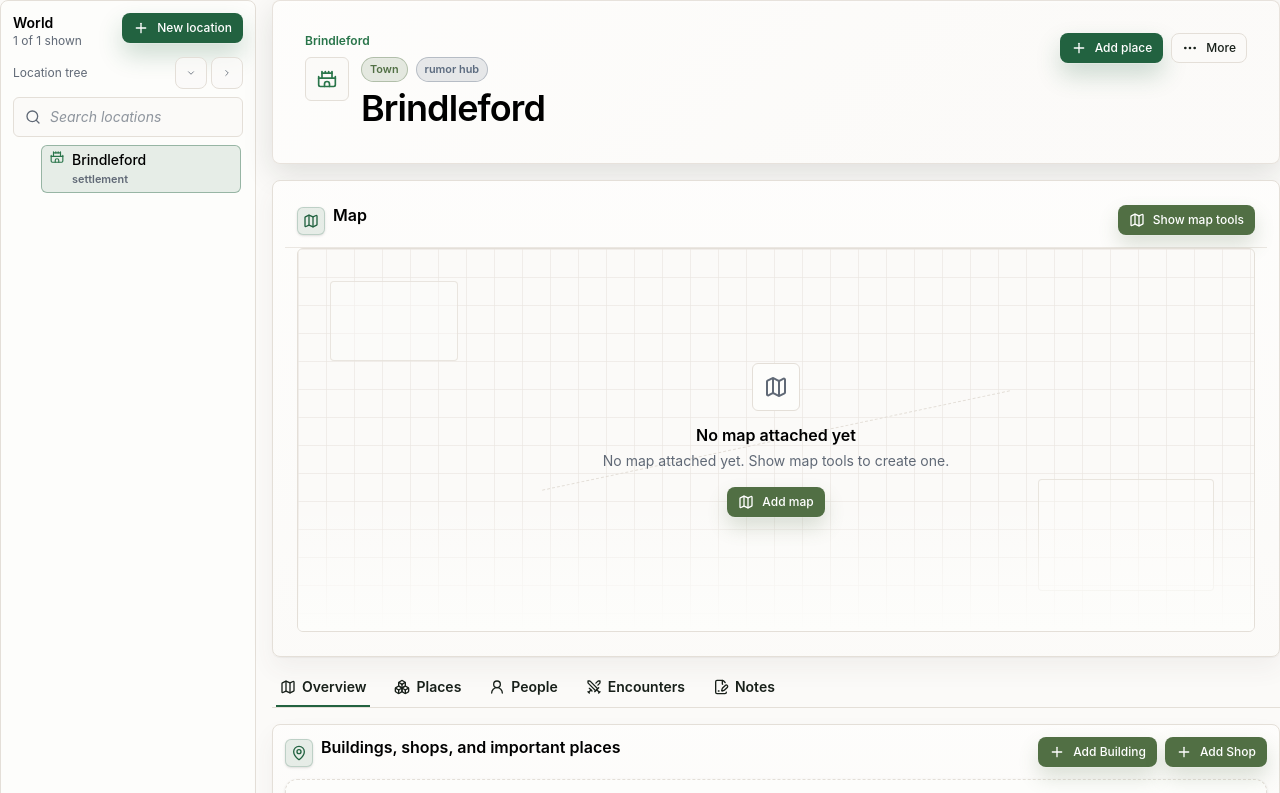
it: CampaignWorldSection notes and encounter actions › opens top-level location creation from a labelled workspace action
The width and height of the screenshot is (1280, 793).
What coordinates should you click on to do the following:
click the button "New location"
I would click on:
 (183, 28)
Its box is [122,13,243,43].
(page scrolled)
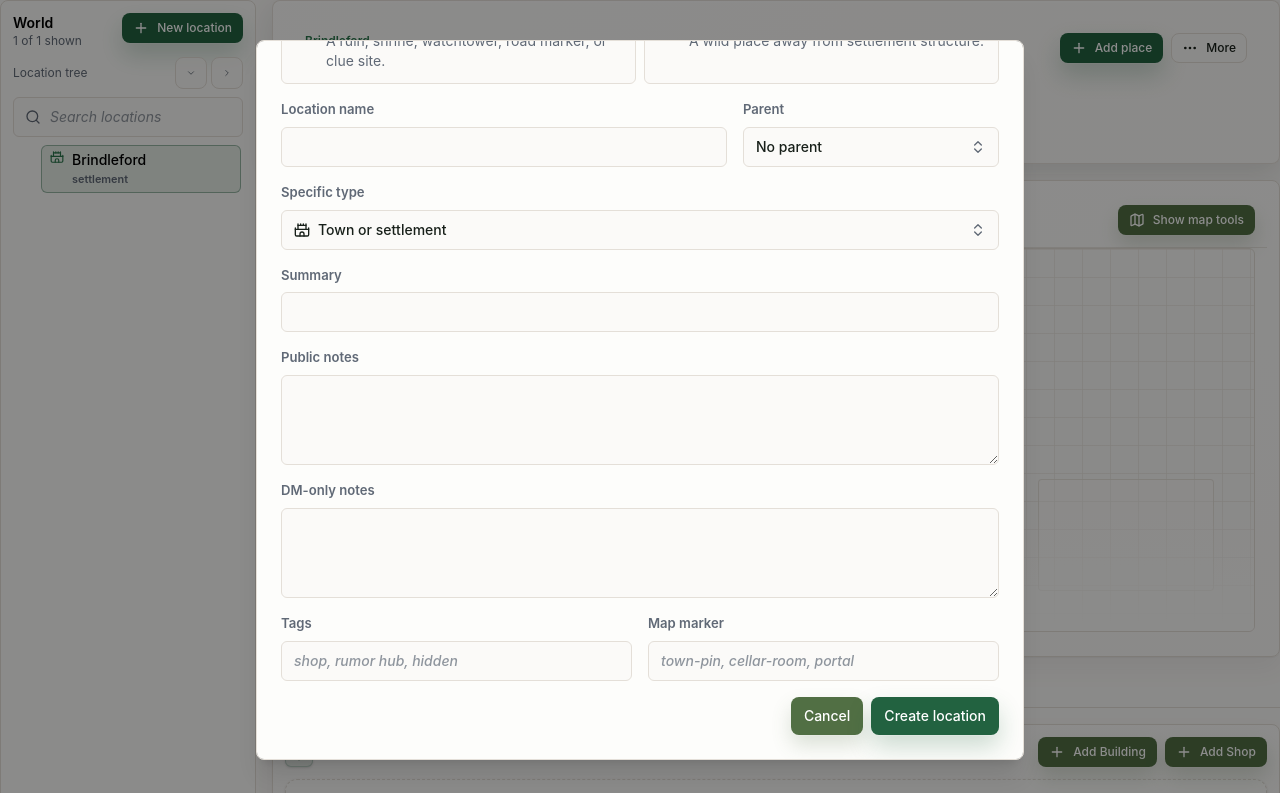
Expected: the dialog "Add World Location" is shown, [256,40,1024,760]
Expected: the button "Create location" is shown, [871,696,999,734]
